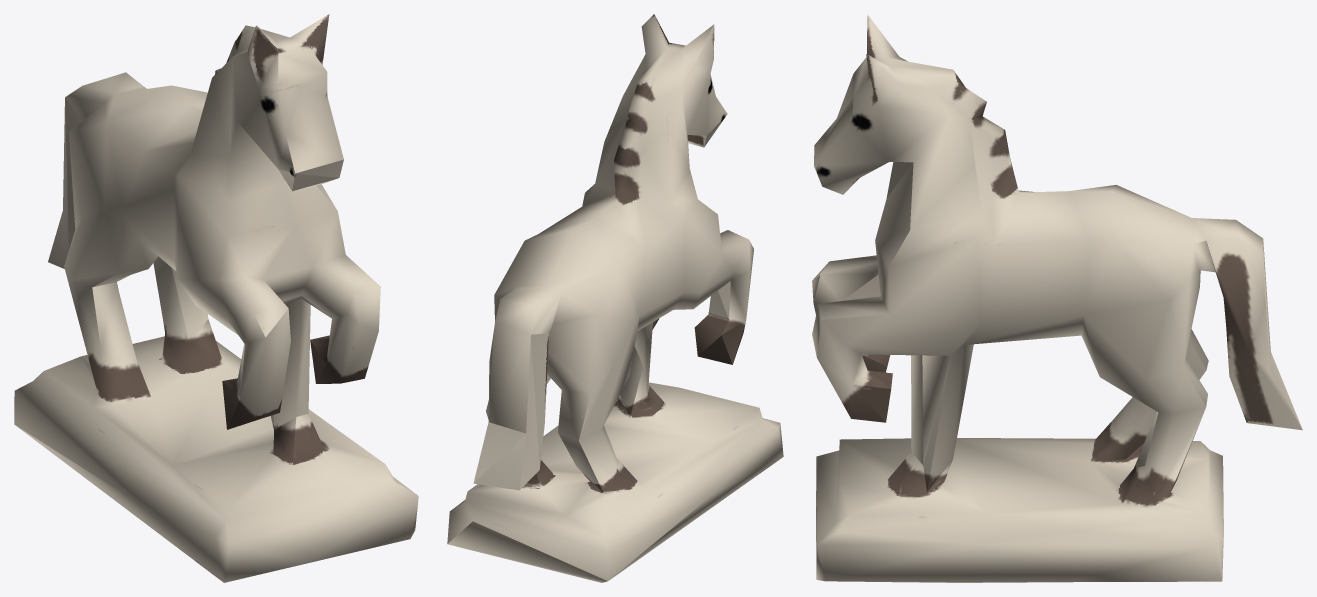
File: marble-rearing-horse.glb
3 renders of one model, left to right at view 1: azimuth 30°, elevation 25°; view 2: azimuth 150°, elevation 25°; view 3: azimuth 270°, elevation 25°, orthographic. The views are drawn at different scales.
Visible parts, largest first — view 1: geometry_0.001; view 2: geometry_0.001; view 3: geometry_0.001.
Part boxes in pixels (box(x1,y1,x2,y2)): geometry_0.001: box(14, 14, 418, 582); geometry_0.001: box(447, 14, 783, 582); geometry_0.001: box(812, 14, 1302, 582).
Bounding box in the file's own units: 0.3943 × 1.01 × 0.8854.
1 material, 1 textured.
